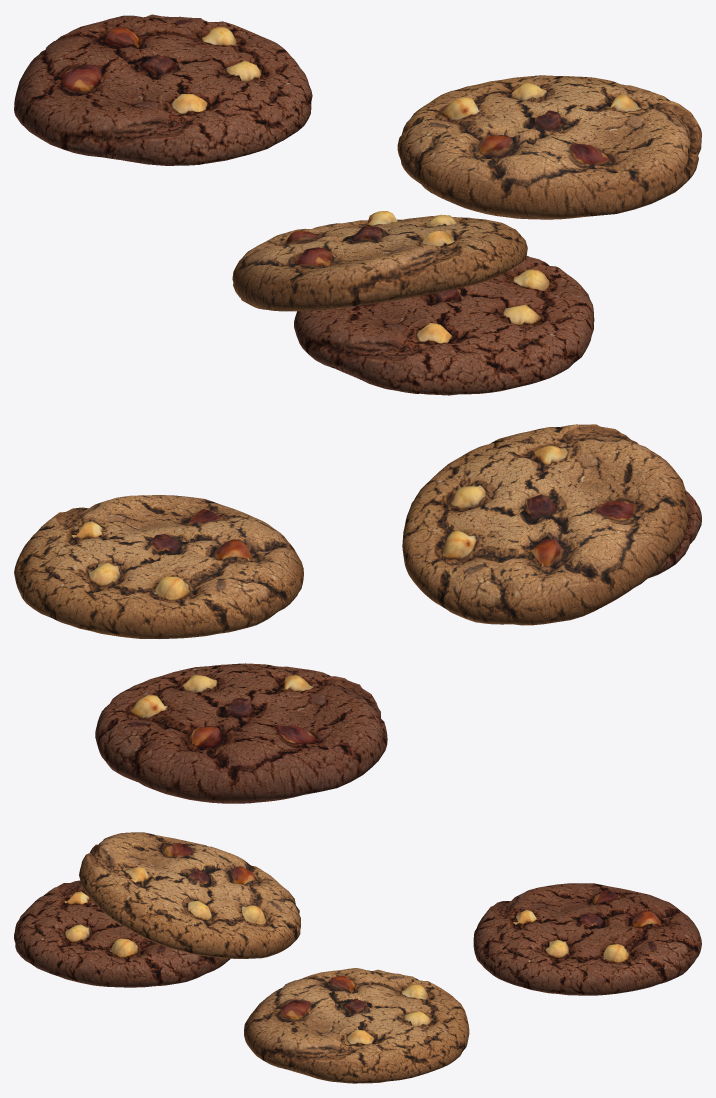
The model's file is cookies.glb.
The picture shows the model from 3 angles, top to bottom: view 1: azimuth 30°, elevation 25°; view 2: azimuth 150°, elevation 25°; view 3: azimuth 270°, elevation 25°; orthographic projection. The views are drawn at different scales.
Parts seen in each view (by area): view 1: Cookie_Chocolate_01_Cookie_Chocolate_0, Cookie_01_Cookie_0, Cookie_Chocolate_02_Cookie_Chocolate_0, Cookie_02_Cookie_0; view 2: Cookie_02_Cookie_0, Cookie_01_Cookie_0, Cookie_Chocolate_01_Cookie_Chocolate_0, Cookie_Chocolate_02_Cookie_Chocolate_0; view 3: Cookie_Chocolate_01_Cookie_Chocolate_0, Cookie_01_Cookie_0, Cookie_02_Cookie_0, Cookie_Chocolate_02_Cookie_Chocolate_0.
Boxes of the visible parts, left/top/right/bottom form: Cookie_Chocolate_01_Cookie_Chocolate_0: left=14, top=14, right=312, bottom=165; Cookie_01_Cookie_0: left=397, top=75, right=701, bottom=219; Cookie_Chocolate_02_Cookie_Chocolate_0: left=294, top=256, right=594, bottom=395; Cookie_02_Cookie_0: left=232, top=211, right=527, bottom=311; Cookie_02_Cookie_0: left=402, top=424, right=689, bottom=625; Cookie_01_Cookie_0: left=14, top=495, right=303, bottom=638; Cookie_Chocolate_01_Cookie_Chocolate_0: left=95, top=663, right=387, bottom=803; Cookie_Chocolate_02_Cookie_Chocolate_0: left=411, top=491, right=701, bottom=578; Cookie_Chocolate_01_Cookie_Chocolate_0: left=473, top=883, right=701, bottom=995; Cookie_01_Cookie_0: left=244, top=968, right=469, bottom=1083; Cookie_02_Cookie_0: left=79, top=832, right=300, bottom=958; Cookie_Chocolate_02_Cookie_Chocolate_0: left=14, top=880, right=230, bottom=987.
Size of the model in its own units: 0.1631 by 0.0302 by 0.236.
2 materials, 2 textured.
